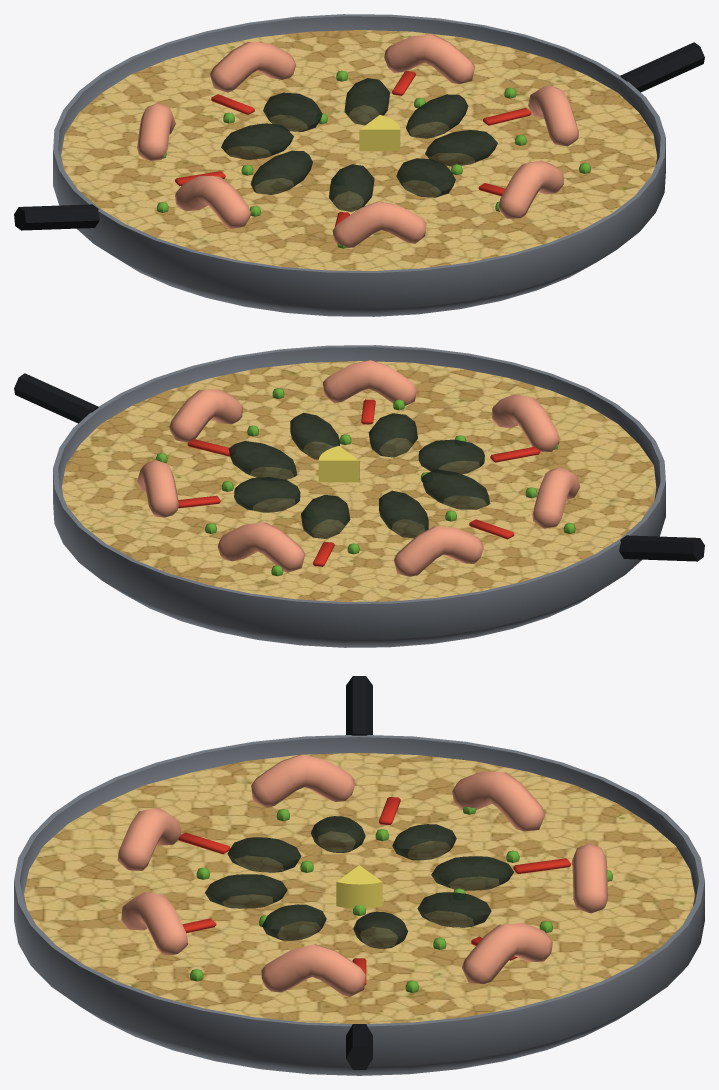
Rendered from meal_paella_pan.glb.
The picture shows the model from 3 angles, top to bottom: view 1: azimuth 30°, elevation 25°; view 2: azimuth 150°, elevation 25°; view 3: azimuth 270°, elevation 25°; orthographic projection. The views are drawn at different scales.
Visible parts, largest first — view 1: meal_paella_pan; view 2: meal_paella_pan; view 3: meal_paella_pan.
Boxes of the visible parts, <box> form: meal_paella_pan: <box>14,14,704,316</box>; meal_paella_pan: <box>14,345,704,647</box>; meal_paella_pan: <box>14,676,704,1075</box>.
Size of the model in its own units: 0.4624 by 0.053 by 0.36.
8 materials, 1 textured.
